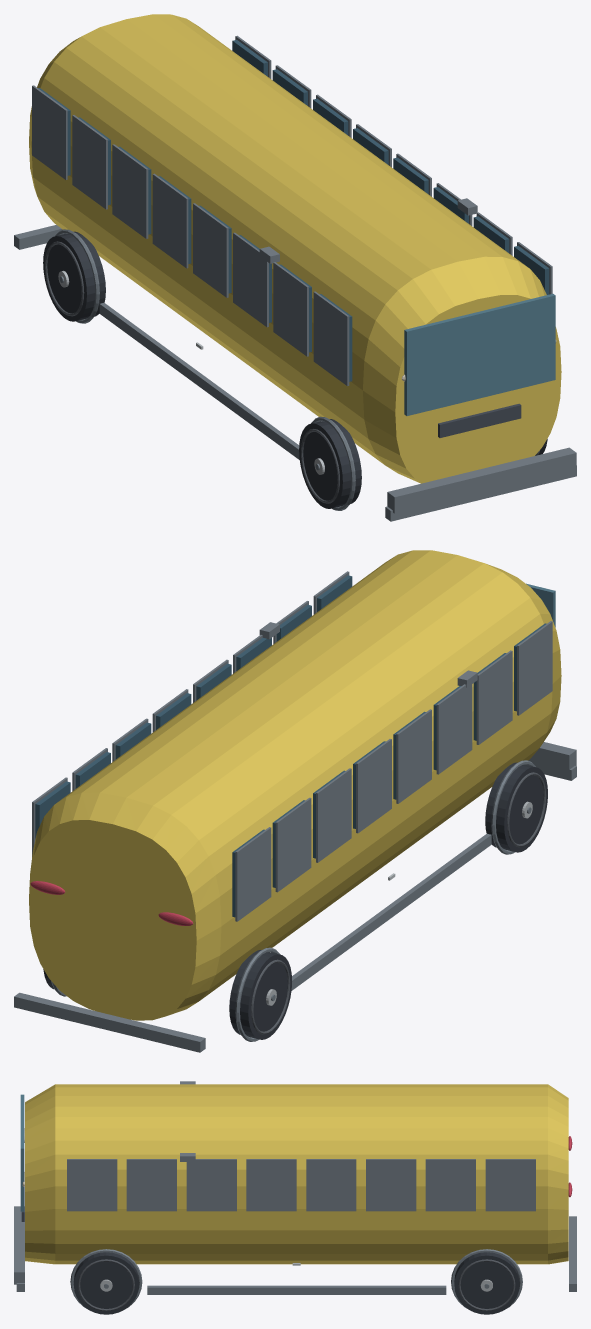
Rendered from bus.glb.
3 renders of one model, top to bottom at view 1: azimuth 30°, elevation 25°; view 2: azimuth 150°, elevation 25°; view 3: azimuth 270°, elevation 25°, orthographic. The views are drawn at different scales.
Visible parts, largest first — view 1: bus_body, bus_front_windshield, bus_bumper, bus_wheel_-1_1_tire_core, bus_wheel_-1_0_tire_core, bus_side_skirt_-1, bus_window_frame_-1_2, bus_window_frame_-1_3, bus_window_frame_-1_7, bus_window_frame_-1_4, bus_window_frame_-1_0, bus_window_frame_-1_1 (+6 smaller); view 2: bus_body, bus_wheel_-1_0_tire_core, bus_wheel_-1_1_tire_core, bus_rear_bumper, bus_side_skirt_-1, bus_window_frame_-1_1, bus_window_frame_-1_0, bus_window_frame_-1_6, bus_window_frame_-1_5, bus_window_frame_-1_2, bus_window_frame_-1_4, bus_window_frame_-1_7 (+3 smaller); view 3: bus_body, bus_side_skirt_1, bus_wheel_1_1_tire_core, bus_wheel_1_0_tire_core, bus_window_frame_1_4, bus_window_frame_1_0, bus_window_frame_1_1, bus_window_frame_1_2, bus_window_frame_1_3, bus_window_frame_1_6, bus_window_frame_1_7, bus_window_frame_1_5 (+7 smaller).
Boxes of the visible parts, x1,y1,x2,y2 form: bus_body: [29, 14, 561, 483]; bus_front_windshield: [404, 293, 555, 415]; bus_bumper: [387, 447, 576, 513]; bus_wheel_-1_1_tire_core: [299, 419, 361, 508]; bus_wheel_-1_0_tire_core: [43, 231, 105, 321]; bus_side_skirt_-1: [99, 302, 299, 459]; bus_window_frame_-1_2: [112, 144, 148, 238]; bus_window_frame_-1_3: [152, 173, 188, 268]; bus_window_frame_-1_7: [313, 291, 349, 385]; bus_window_frame_-1_4: [193, 203, 228, 297]; bus_window_frame_-1_0: [32, 85, 67, 179]; bus_window_frame_-1_1: [72, 115, 107, 209]; bus_body: [29, 550, 561, 1020]; bus_wheel_-1_0_tire_core: [229, 950, 291, 1039]; bus_wheel_-1_1_tire_core: [485, 762, 547, 852]; bus_rear_bumper: [14, 992, 205, 1052]; bus_side_skirt_-1: [291, 833, 491, 990]; bus_window_frame_-1_1: [275, 797, 311, 892]; bus_window_frame_-1_0: [235, 827, 271, 921]; bus_window_frame_-1_6: [476, 650, 512, 744]; bus_window_frame_-1_5: [436, 684, 472, 774]; bus_window_frame_-1_2: [316, 768, 351, 862]; bus_window_frame_-1_4: [396, 709, 431, 803]; bus_window_frame_-1_7: [517, 621, 552, 715]; bus_body: [25, 1084, 568, 1264]; bus_side_skirt_1: [147, 1285, 446, 1294]; bus_wheel_1_1_tire_core: [73, 1252, 138, 1314]; bus_wheel_1_0_tire_core: [454, 1252, 519, 1314]; bus_window_frame_1_4: [246, 1159, 296, 1211]; bus_window_frame_1_0: [485, 1159, 535, 1211]; bus_window_frame_1_1: [425, 1159, 475, 1211]; bus_window_frame_1_2: [366, 1159, 416, 1211]; bus_window_frame_1_3: [306, 1159, 356, 1211]; bus_window_frame_1_6: [126, 1159, 176, 1211]; bus_window_frame_1_7: [67, 1159, 117, 1211]; bus_window_frame_1_5: [186, 1159, 236, 1211].
Bounding box in the file's own units: 2.69 × 3 × 8.28.
